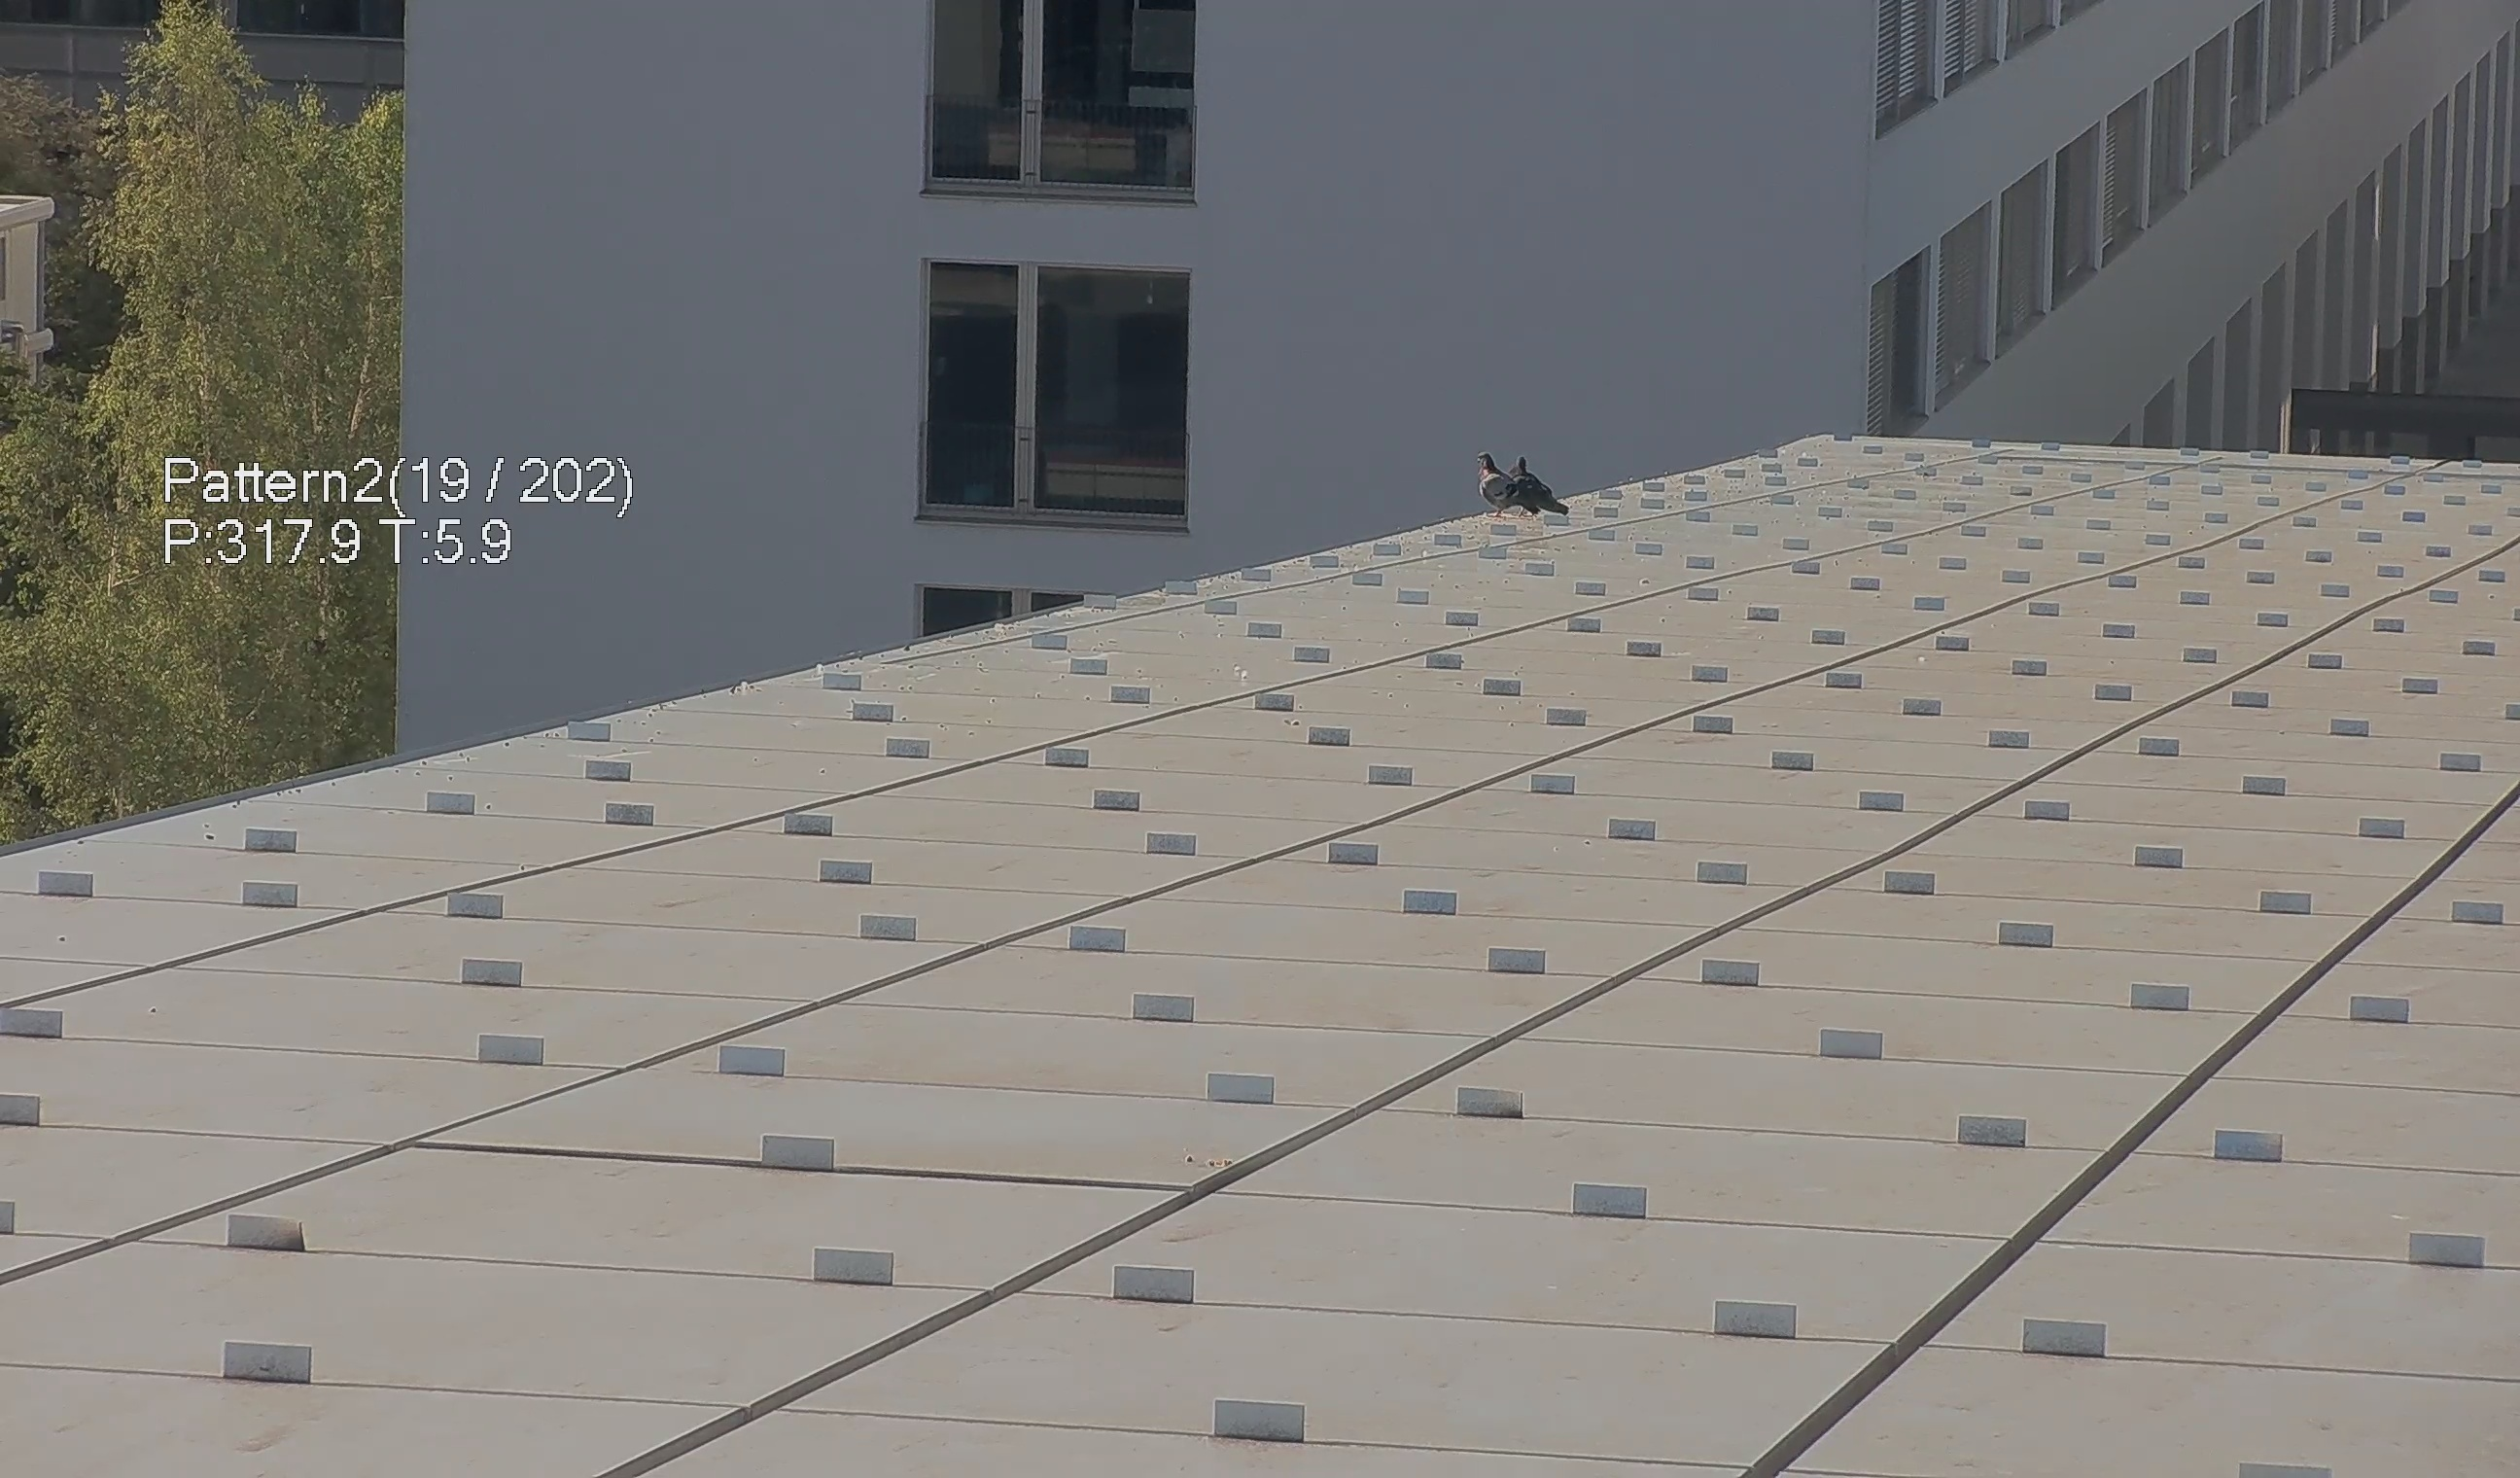Pigeon: (1475, 442, 1560, 528), (1500, 456, 1556, 503)
